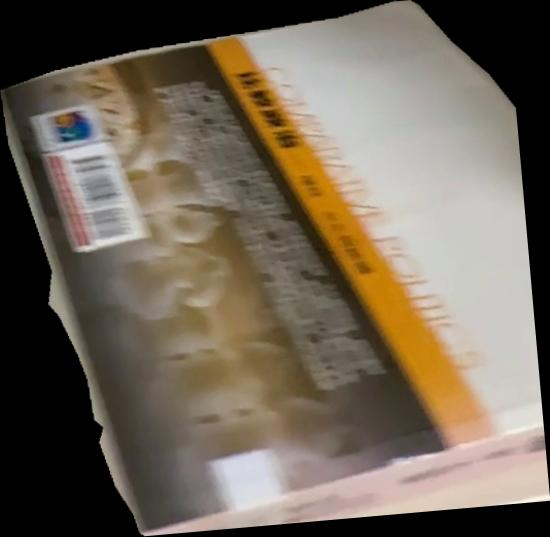flat: (1, 1, 550, 537)
